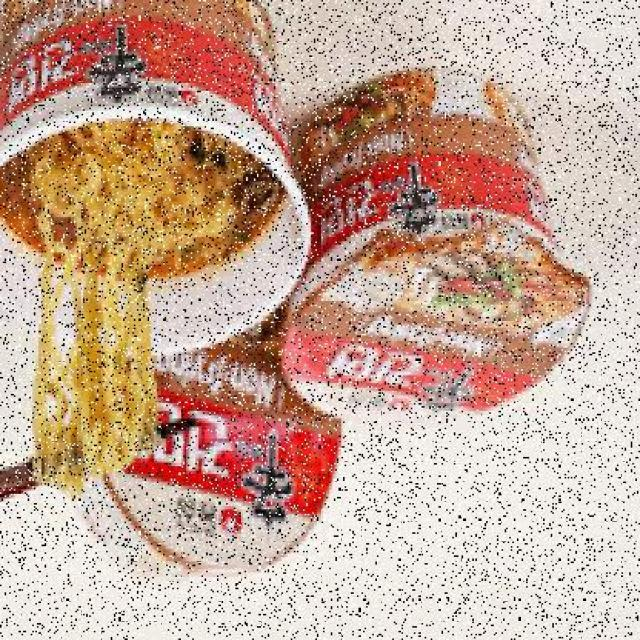Miscellaneous: (0, 0, 309, 337), (285, 68, 567, 427)
